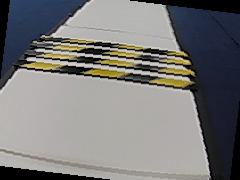bump: (14, 34, 200, 91)
